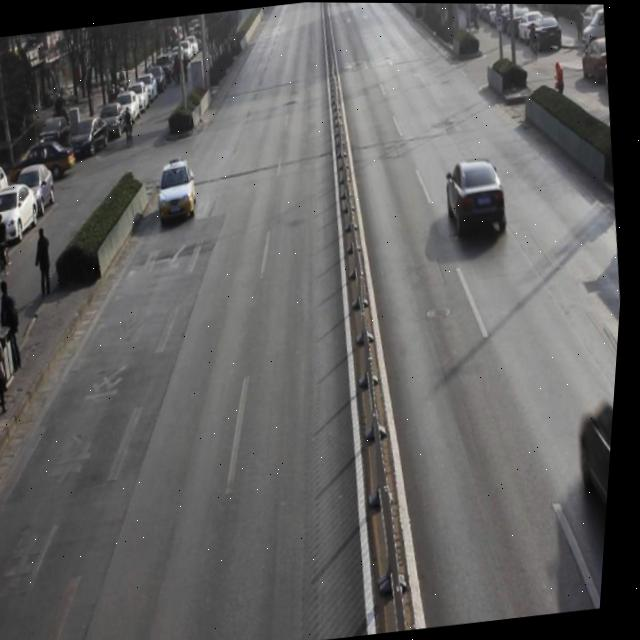car: (572, 398, 619, 549), (441, 154, 517, 239), (154, 153, 204, 222)
